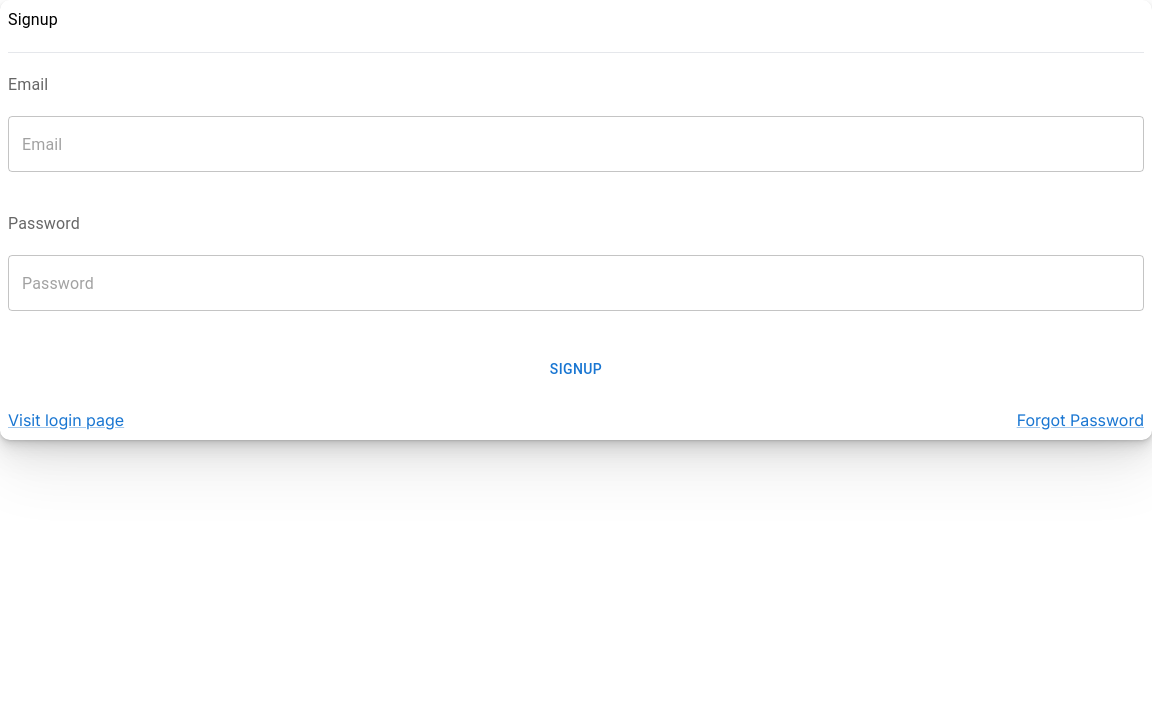
Test: user sign up component › should displays validation error for empty email and password fields
The image size is (1152, 720).
Click the button with test id "signup-button" at coordinates (576, 369), box [8,351,1144,388]
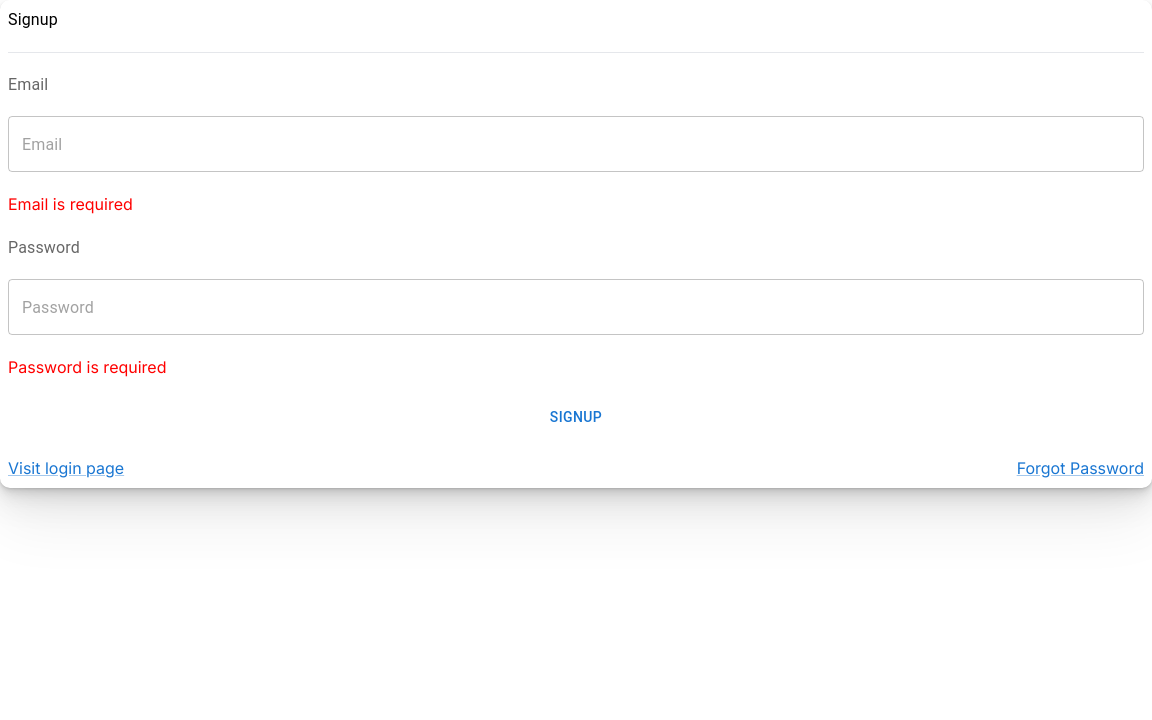
Expected: the text "Email is required" is shown, [8,194,133,214]
Expected: the text "Password is required" is shown, [8,357,166,377]
